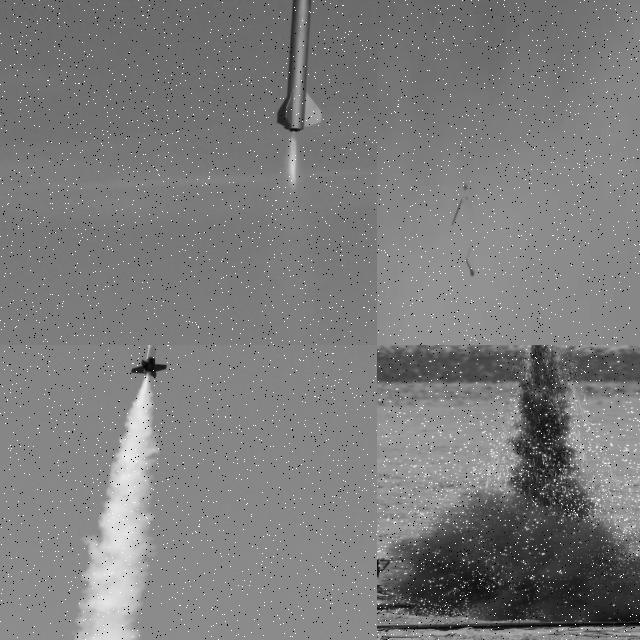Rocket: (273, 0, 324, 134), (129, 345, 179, 378), (466, 259, 474, 276)
